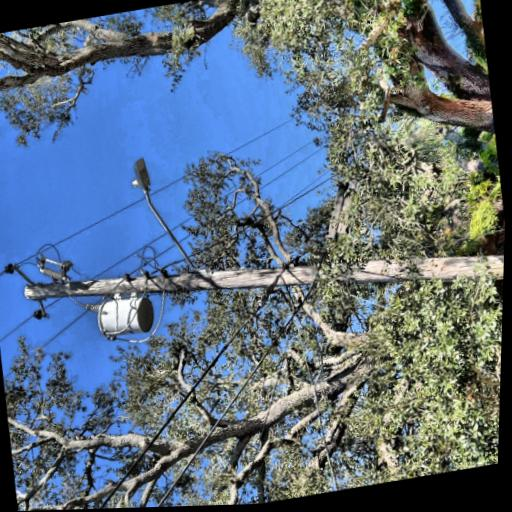insulator: (117, 167, 128, 181), (74, 202, 86, 214)
pole: (0, 187, 160, 512)
street light: (100, 303, 227, 401)
transformer: (53, 271, 98, 339)
vegetation_encroachment: (5, 395, 166, 511)
